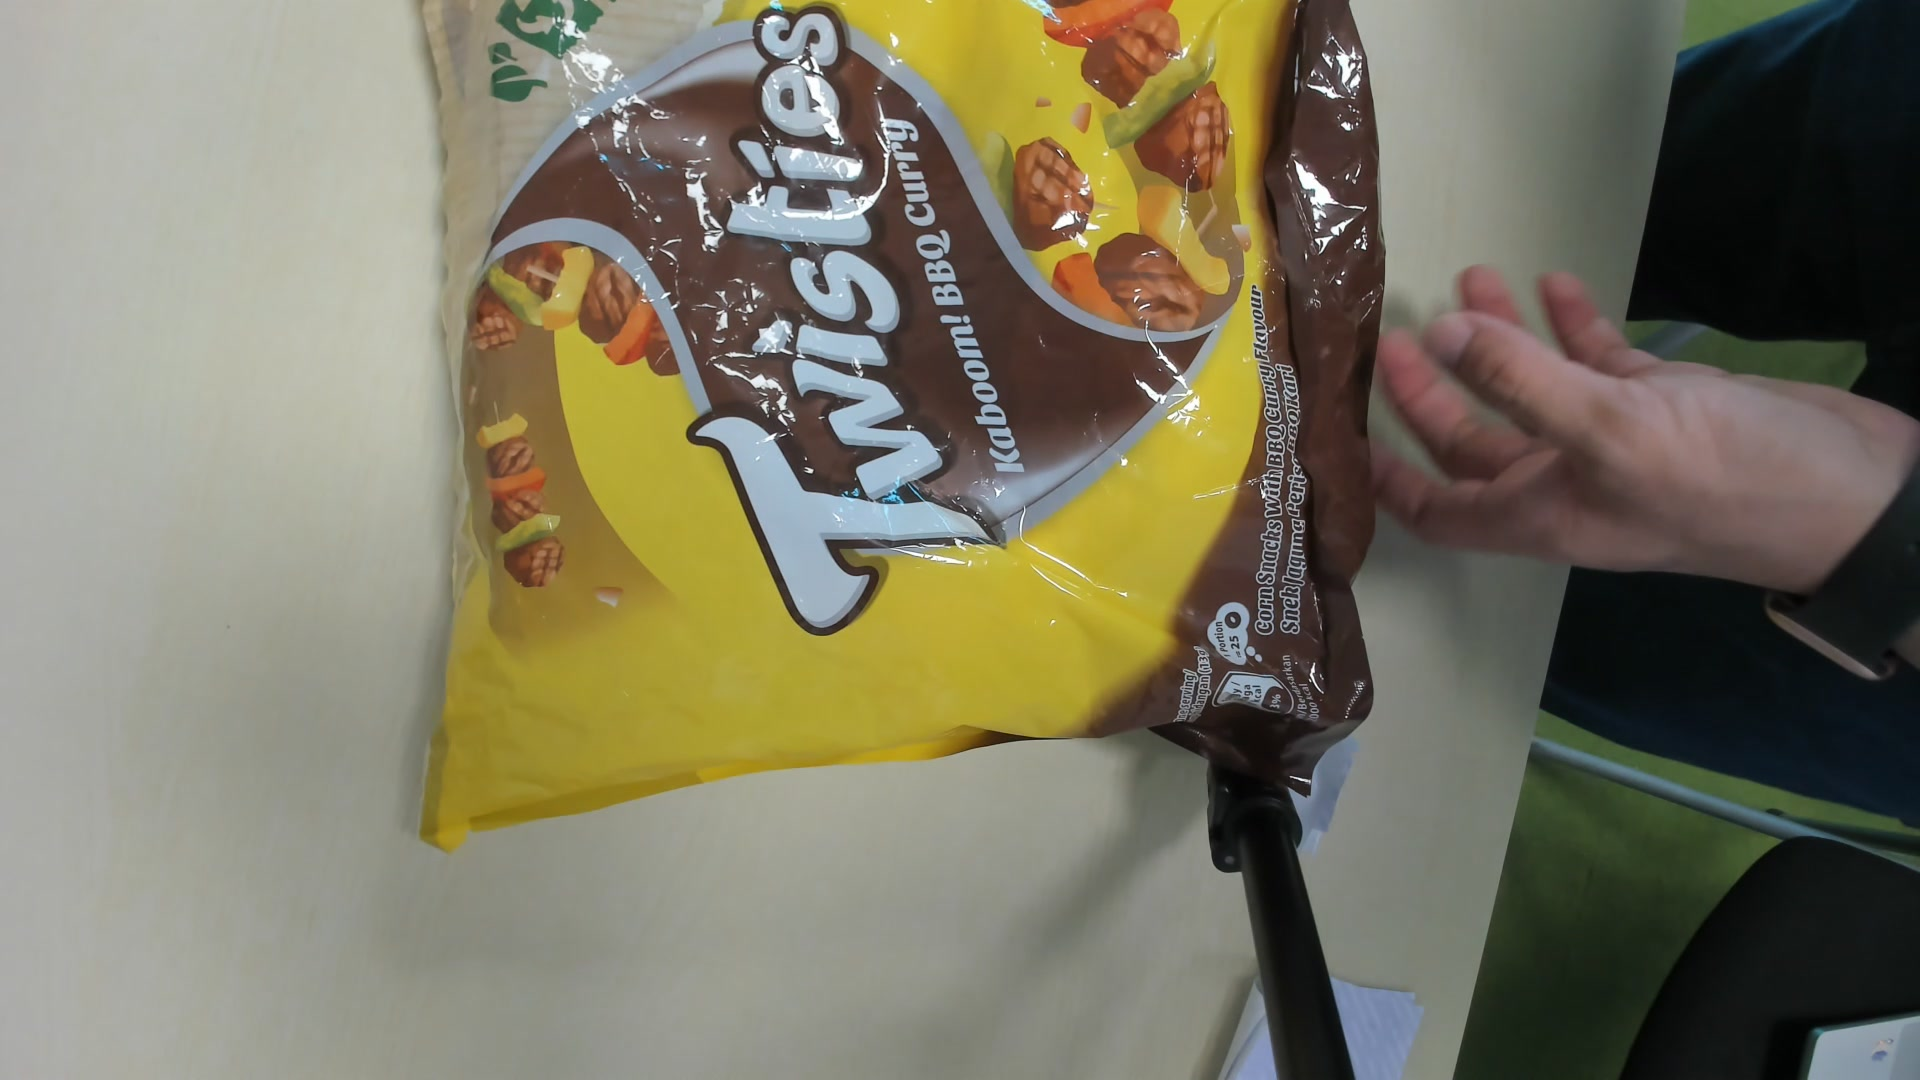PotatoChipsKeropok_0-99g_Halal_NonHealthy: (417, 1, 1379, 800)
